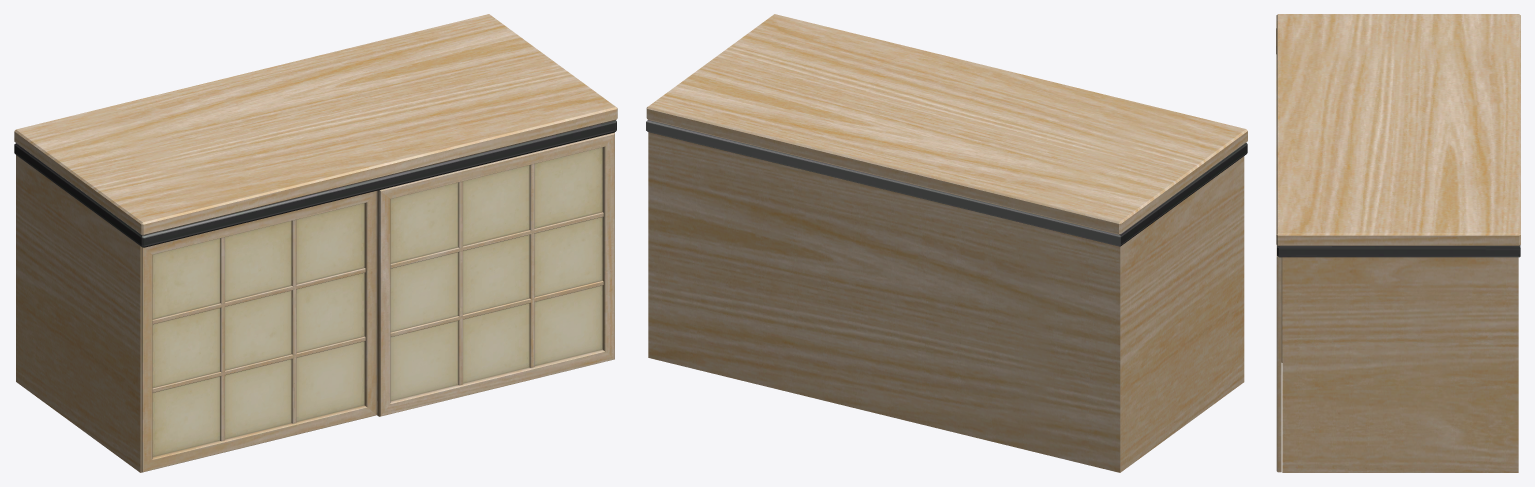
File: Wardrobe2.c.fbx
3 renders of one model, left to right at view 1: azimuth 30°, elevation 25°; view 2: azimuth 150°, elevation 25°; view 3: azimuth 270°, elevation 25°, orthographic. The views are drawn at different scales.
Parts seen in each view (by area): view 1: Group 0; view 2: Group 0; view 3: Group 0.
Part boxes in pixels (left/top/right/bottom): Group 0: left=14, top=14, right=617, bottom=472; Group 0: left=646, top=14, right=1247, bottom=472; Group 0: left=1276, top=14, right=1520, bottom=472.
Size of the model in its own units: 187 by 99.45 by 87.47.
Materials: 1 (1 with a texture image).
